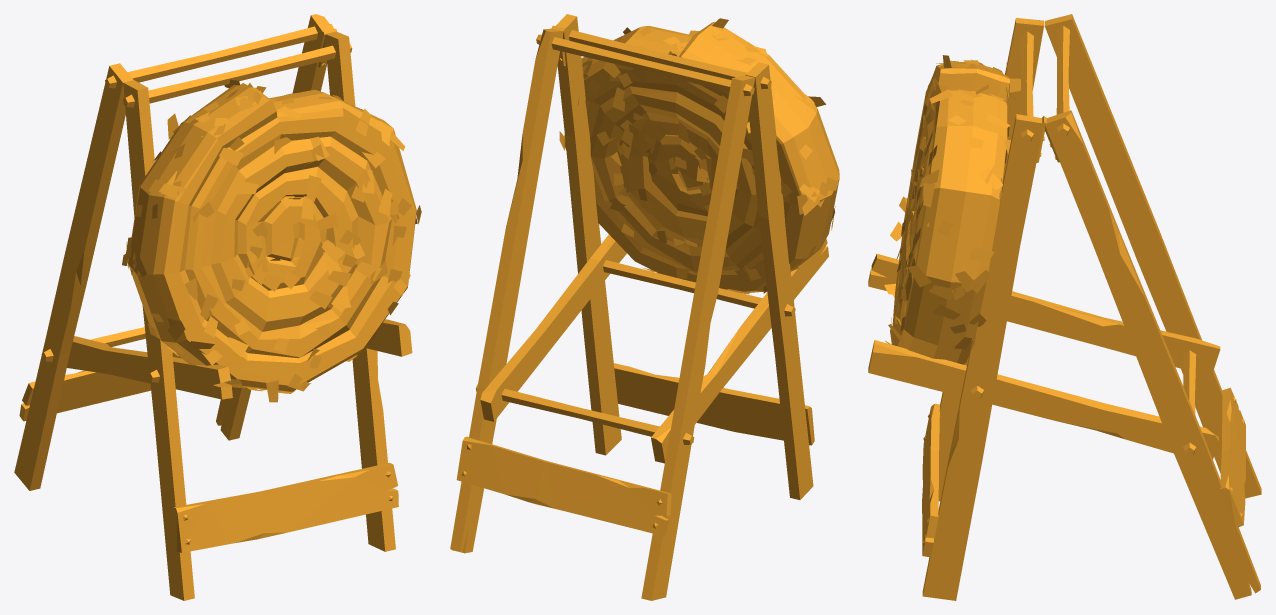
File: SM_Training_Target_Straw_Fantasy.fbx
The picture shows the model from 3 angles, left to right: view 1: azimuth 30°, elevation 25°; view 2: azimuth 150°, elevation 25°; view 3: azimuth 270°, elevation 25°; orthographic projection. The views are drawn at different scales.
Visible parts, largest first — view 1: training-target-straw-fantasy; view 2: training-target-straw-fantasy; view 3: training-target-straw-fantasy.
Part boxes in pixels (x1=…): training-target-straw-fantasy: x1=14, y1=14, x2=421, y2=600; training-target-straw-fantasy: x1=450, y1=14, x2=839, y2=600; training-target-straw-fantasy: x1=868, y1=14, x2=1261, y2=600.
Bounding box in the file's own units: 0.9796 × 1.68 × 1.23.
